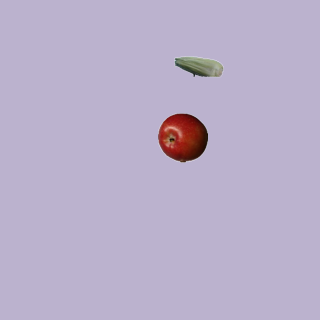Apple Braeburn: (157, 112, 207, 162)
Corn Husk: (173, 41, 223, 91)
